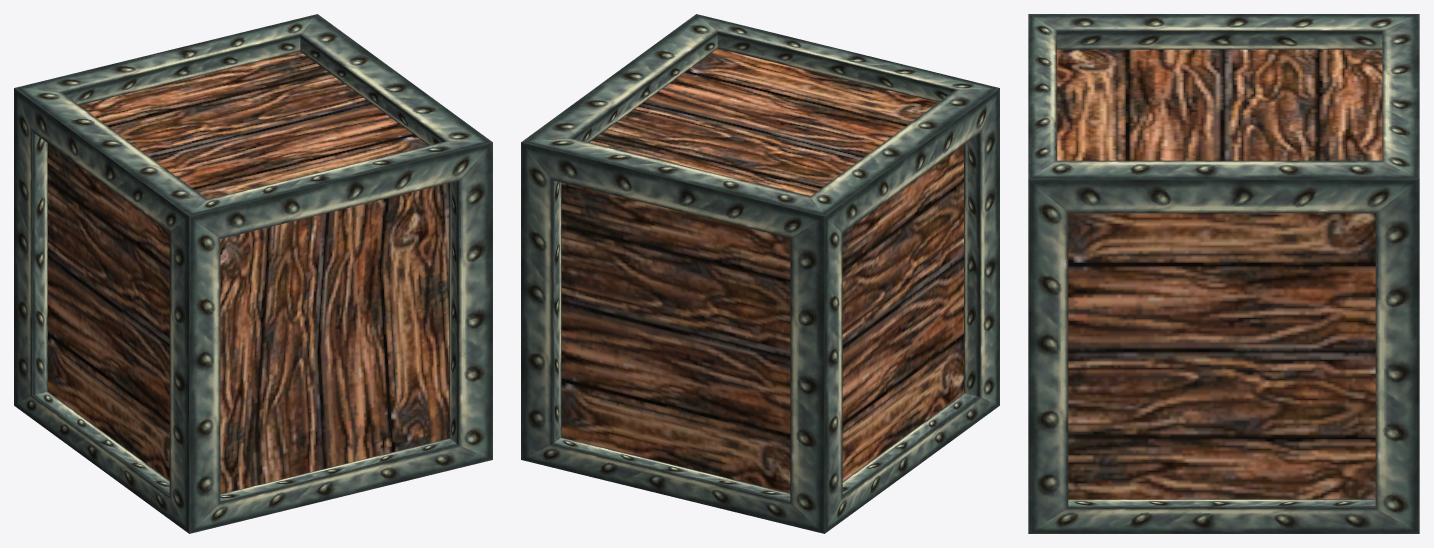
The model's file is LVL_RIV_INST_CRATEB.fbx.
The picture shows the model from 3 angles, left to right: view 1: azimuth 30°, elevation 25°; view 2: azimuth 150°, elevation 25°; view 3: azimuth 270°, elevation 25°; orthographic projection. The views are drawn at different scales.
Visible parts, largest first — view 1: LVL_RIV_INST_CRATEB; view 2: LVL_RIV_INST_CRATEB; view 3: LVL_RIV_INST_CRATEB.
Part boxes in pixels (bbox=[...]): LVL_RIV_INST_CRATEB: bbox=[14, 14, 492, 533]; LVL_RIV_INST_CRATEB: bbox=[521, 14, 999, 533]; LVL_RIV_INST_CRATEB: bbox=[1028, 14, 1419, 533].
Size of the model in its own units: 12711 by 12711 by 12711.
Materials: 2 (2 with a texture image).
